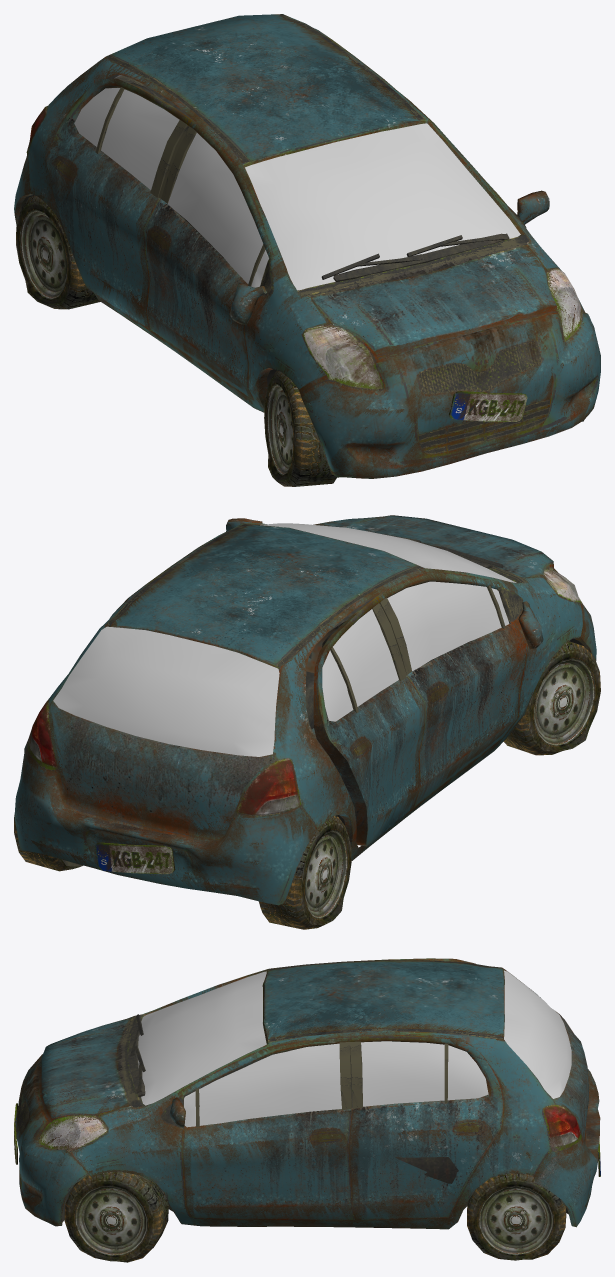
File: OutsideCarYaris2.FBX
The picture shows the model from 3 angles, top to bottom: view 1: azimuth 30°, elevation 25°; view 2: azimuth 150°, elevation 25°; view 3: azimuth 270°, elevation 25°; orthographic projection. The views are drawn at different scales.
Visible parts, largest first — view 1: Yaris_Body001, Yaris_Body_Windows001; view 2: Yaris_Body001, Yaris_Body_Windows001; view 3: Yaris_Body001, Yaris_Body_Windows001.
Part boxes in pixels (left/top/right/bottom): Yaris_Body001: left=14, top=14, right=600, bottom=486; Yaris_Body_Windows001: left=74, top=75, right=520, bottom=290; Yaris_Body001: left=14, top=515, right=600, bottom=929; Yaris_Body_Windows001: left=53, top=523, right=516, bottom=756; Yaris_Body001: left=14, top=958, right=600, bottom=1262; Yaris_Body_Windows001: left=138, top=970, right=571, bottom=1127.
Bounding box in the file's own units: 195 × 151 × 377.
